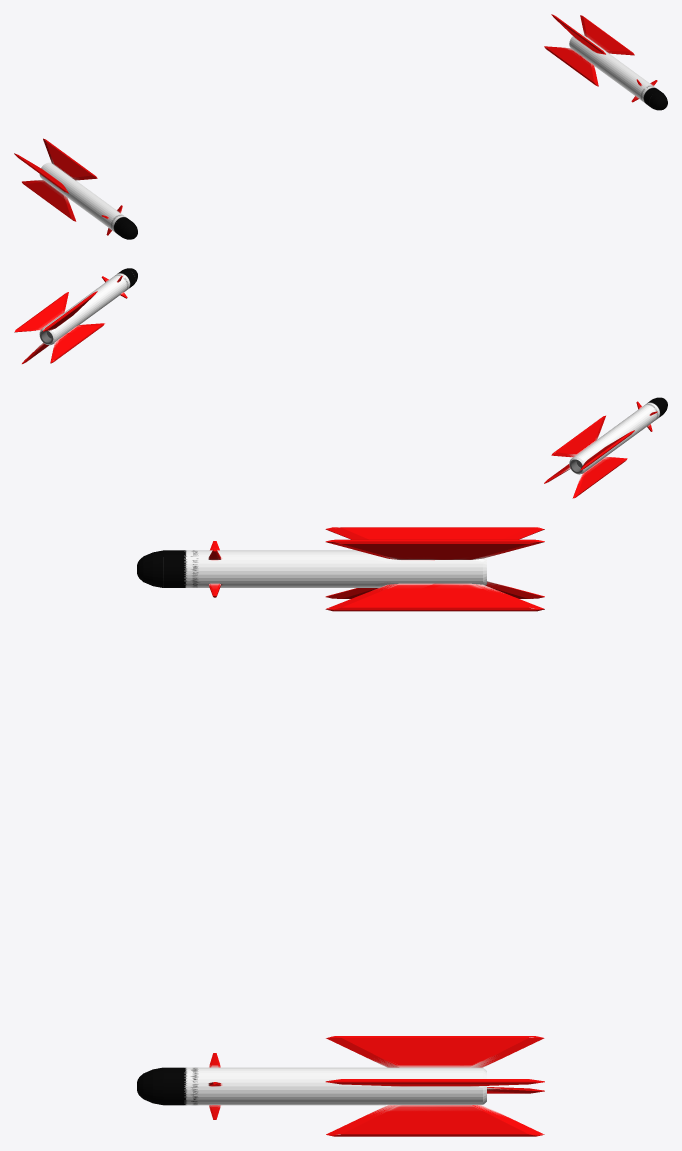
The model's file is Misiles.fbx.
3 renders of one model, top to bottom at view 1: azimuth 30°, elevation 25°; view 2: azimuth 150°, elevation 25°; view 3: azimuth 270°, elevation 25°, orthographic. The views are drawn at different scales.
Parts seen in each view (by area): view 1: Misile.003; view 2: Misile.003; view 3: Misile.003.
Part boxes in pixels (bbox=[...]): Misile.003: bbox=[14, 14, 667, 239]; Misile.003: bbox=[14, 268, 667, 498]; Misile.003: bbox=[137, 527, 544, 1136].
Size of the model in its own units: 1385 by 92.71 by 431.
